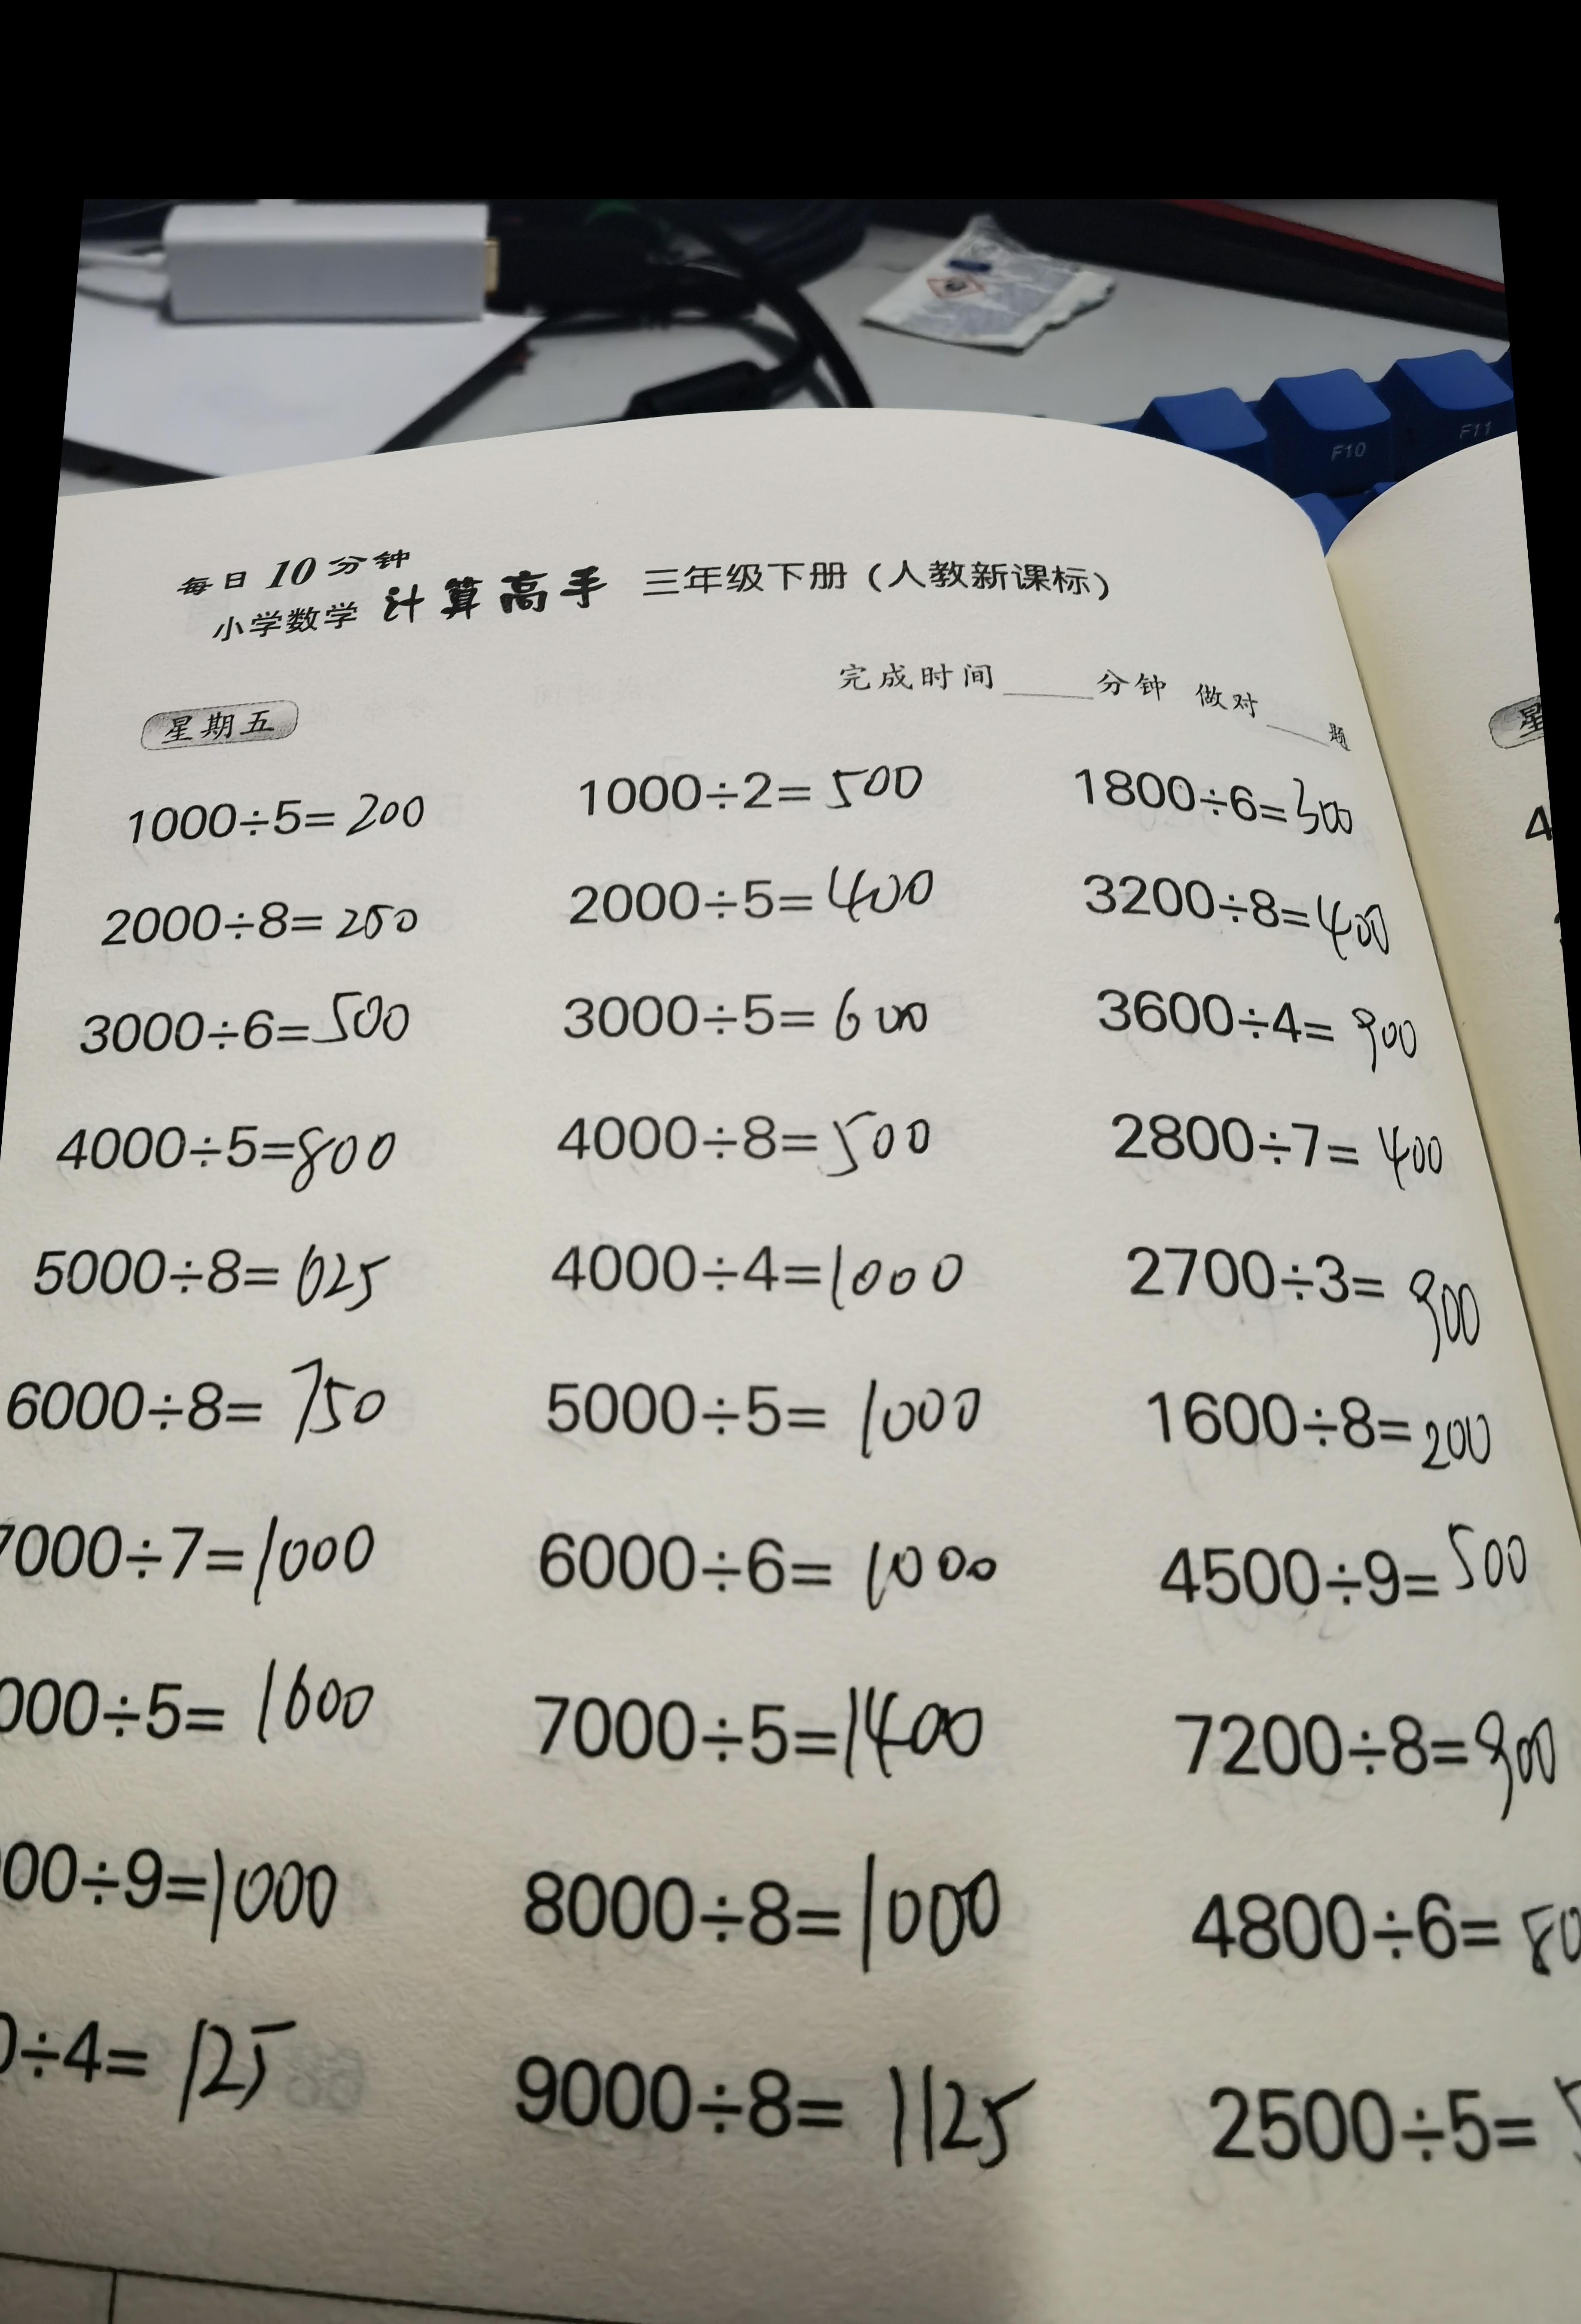equation: (501, 2015, 1068, 2206), (510, 1826, 1046, 1992), (1145, 2024, 1581, 2213), (0, 1959, 383, 2148), (506, 1493, 1009, 1634), (0, 1791, 399, 1962), (506, 1196, 985, 1334), (1156, 1671, 1581, 1823), (510, 1664, 1034, 1782), (1106, 1202, 1484, 1362), (0, 1645, 409, 1789), (1133, 1361, 1555, 1500), (517, 1075, 981, 1198), (1165, 1878, 1581, 2001), (1131, 1519, 1581, 1631), (522, 953, 970, 1062), (1062, 851, 1427, 985), (0, 1477, 420, 1588), (503, 1343, 1029, 1431), (16, 1218, 446, 1325), (1083, 1073, 1457, 1196), (0, 1350, 439, 1451), (1048, 738, 1387, 852), (41, 1103, 455, 1189), (1078, 979, 1433, 1080), (56, 983, 455, 1071), (535, 750, 940, 828), (531, 859, 944, 932), (74, 886, 473, 955), (83, 778, 478, 847)
